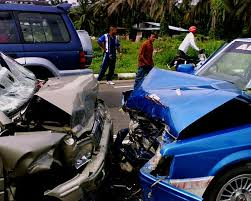acc: (1, 41, 181, 201)
